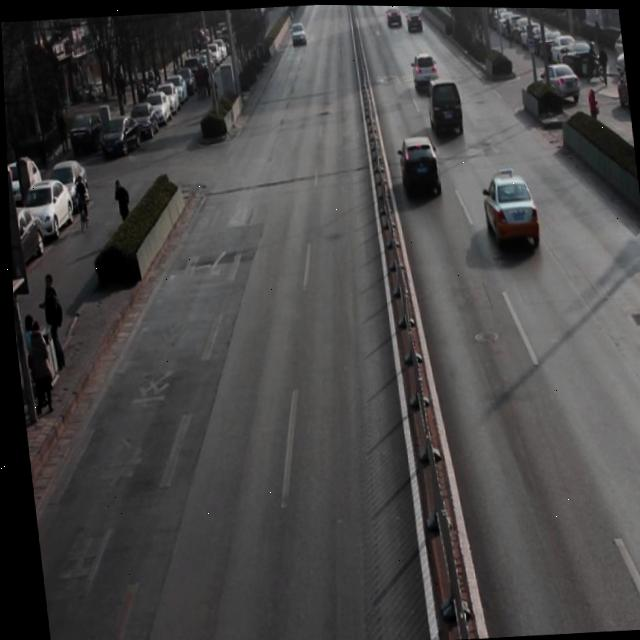car: (478, 169, 541, 254), (395, 134, 443, 200), (410, 49, 440, 89), (288, 18, 307, 49), (404, 6, 425, 31), (385, 4, 402, 33)
truck: (425, 75, 465, 140)
